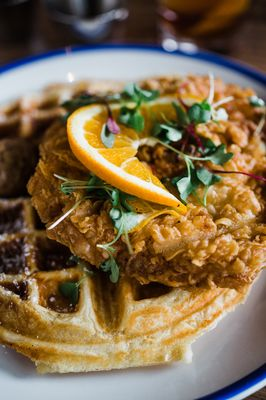taco: (66, 103, 185, 206)
